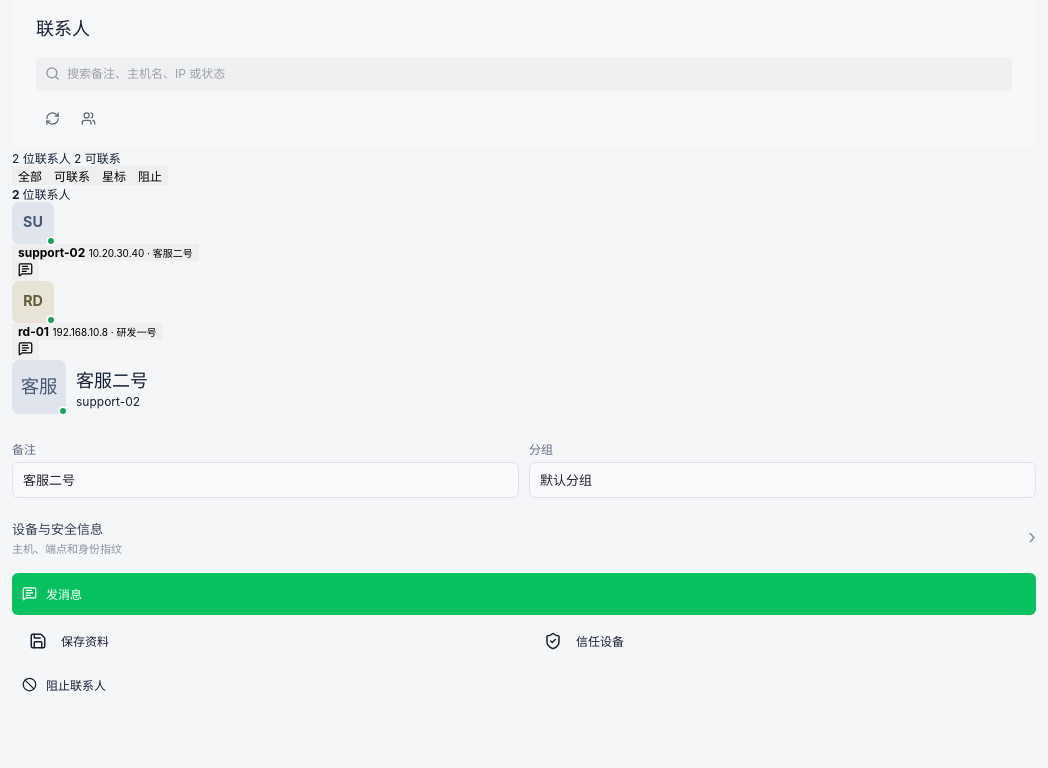
WorkspacePanel contacts empty state › searches contacts by IP address without disturbing the profile layout
This screenshot has width=1048, height=768.
Type "10.20.30" into the search field named "搜索联系人" at (521, 74), box [65,58,977,90]
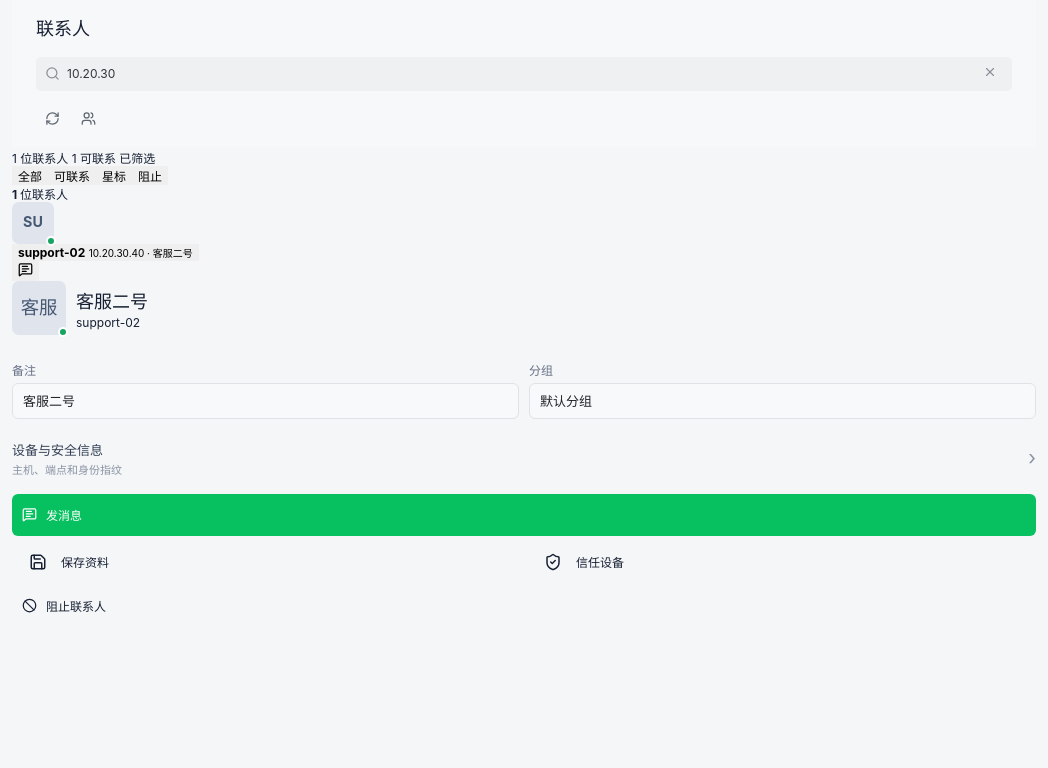
Expected: the text "support-02" below "1 可联系" is shown, [18,244,85,260]
Now the button "rd-01" is gone
